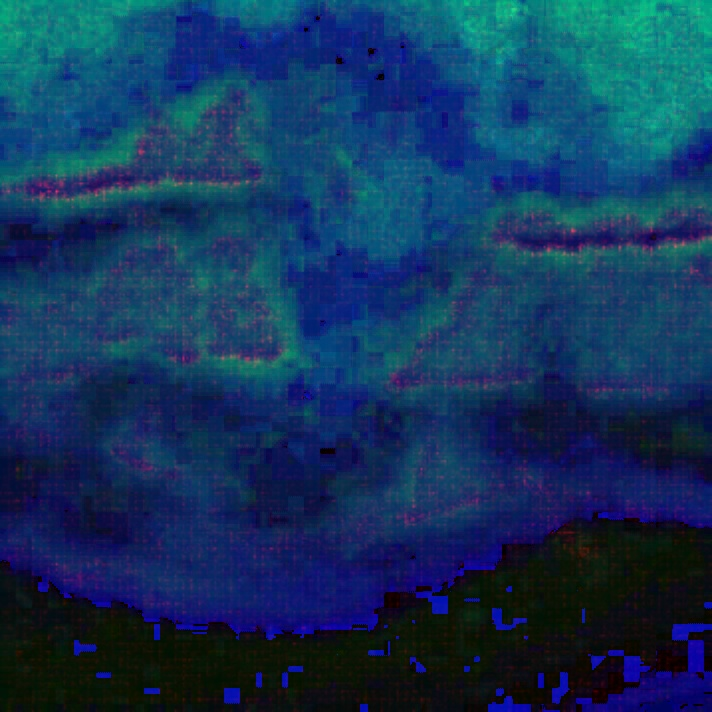rip_current: (183, 94, 469, 516)
